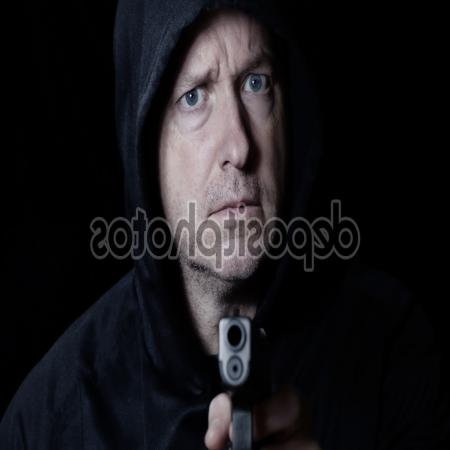Pistol: (202, 322, 282, 446)
